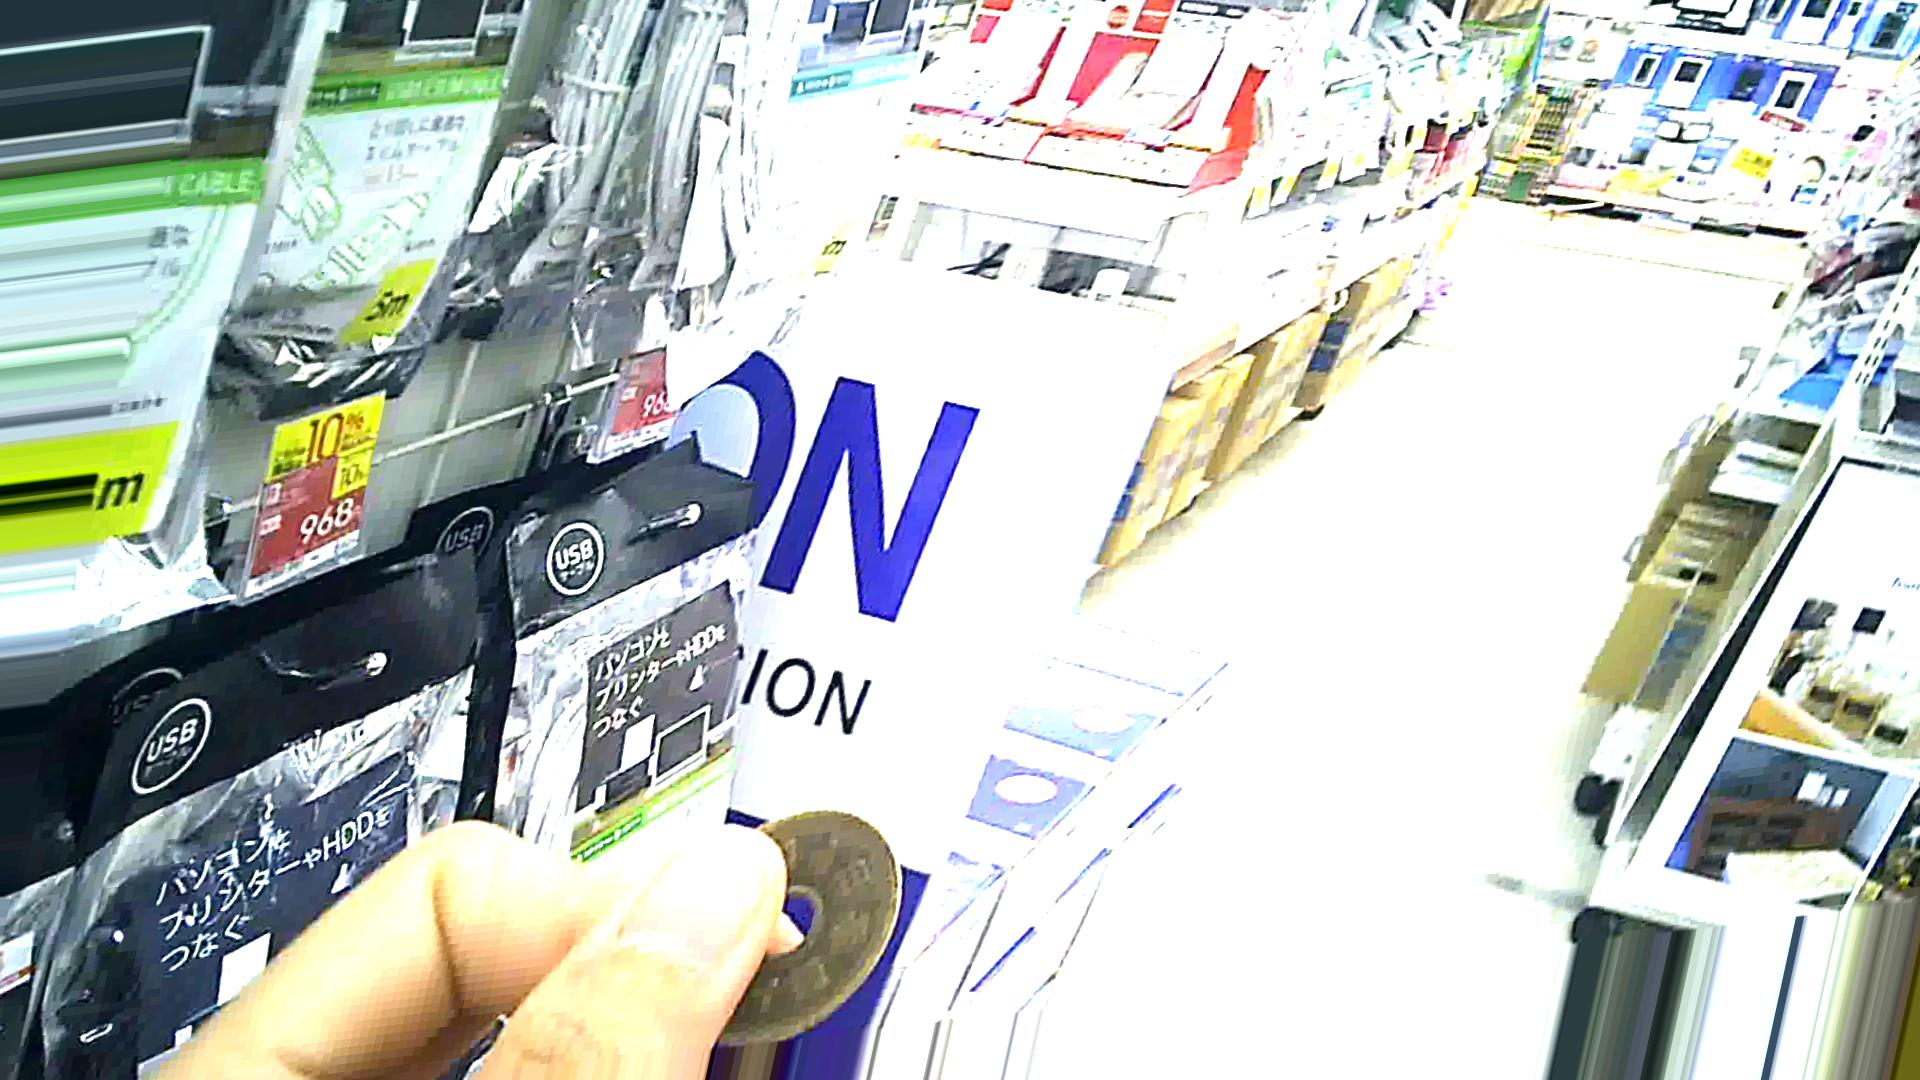5 Yen: (661, 799, 910, 1044)
